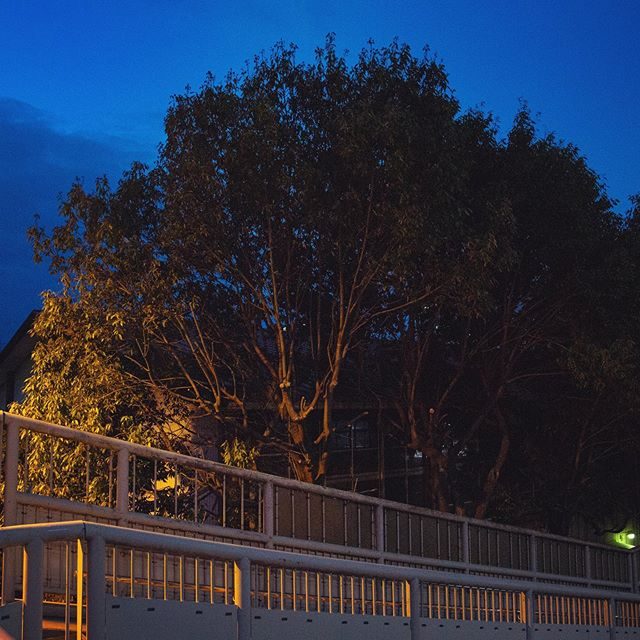sky: (1, 1, 631, 113)
tree: (111, 76, 537, 498), (391, 165, 640, 514)
